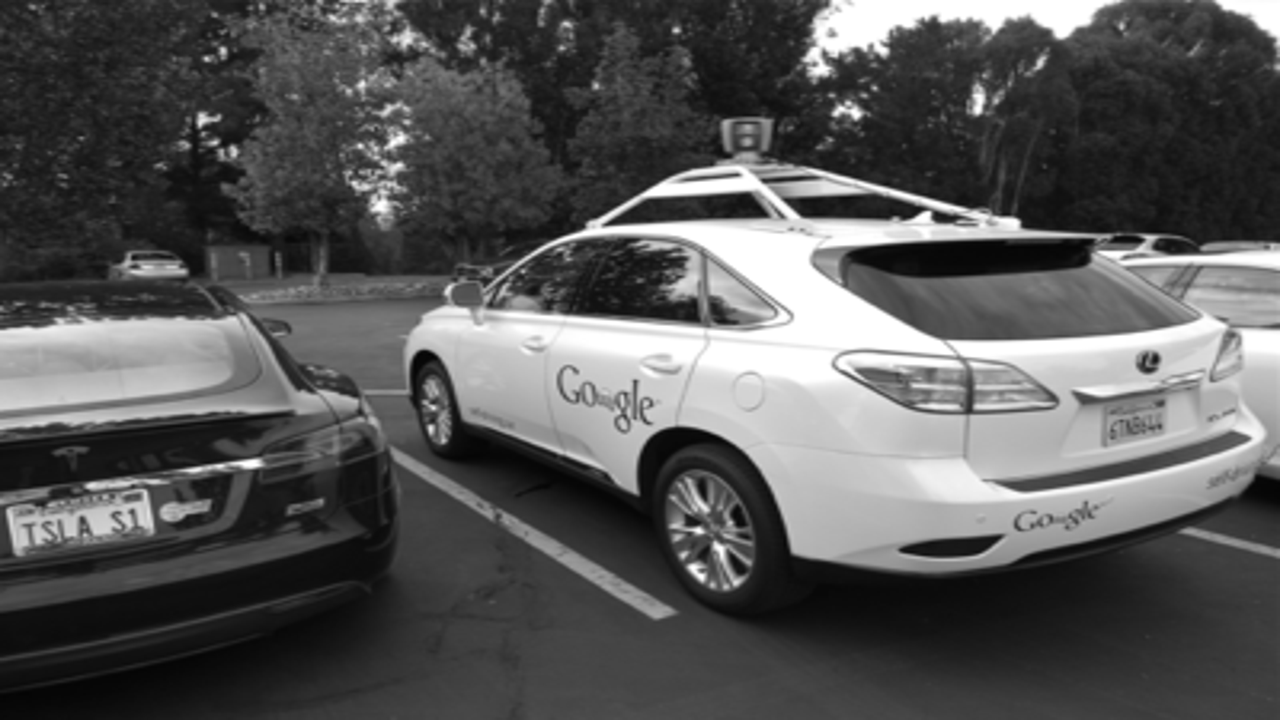license: (7, 482, 165, 569), (1104, 393, 1172, 445)
